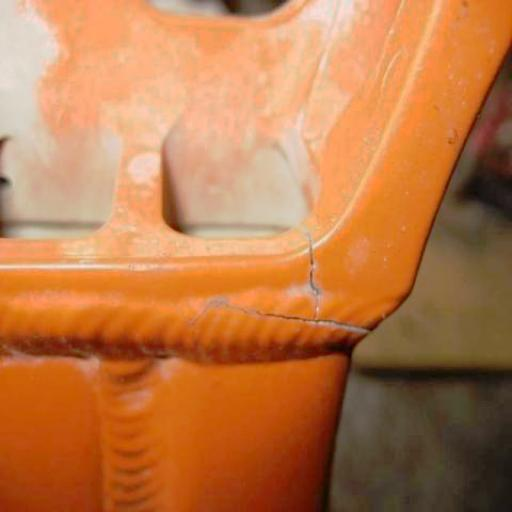crack: (208, 289, 380, 343), (292, 224, 329, 314)
